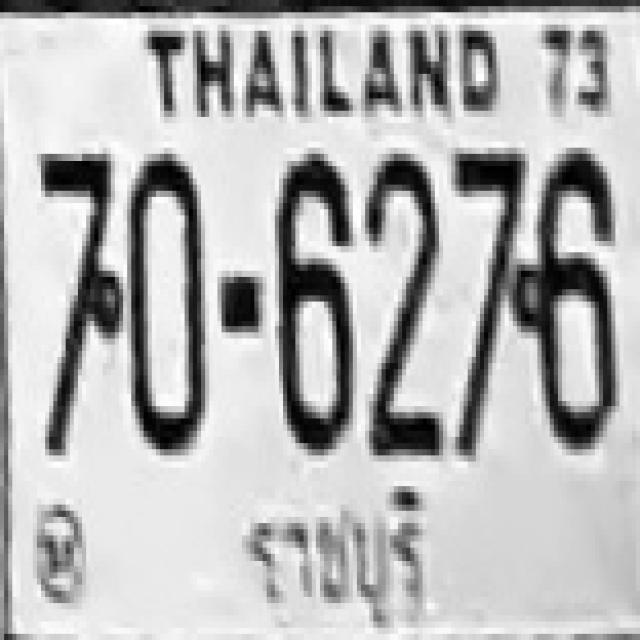0: (125, 148, 207, 449)
2: (363, 148, 437, 443), (363, 148, 437, 418)
6: (523, 145, 613, 446), (275, 148, 349, 449)
7: (37, 145, 119, 452), (449, 145, 523, 452)
Ratchaburi: (238, 467, 439, 640)
